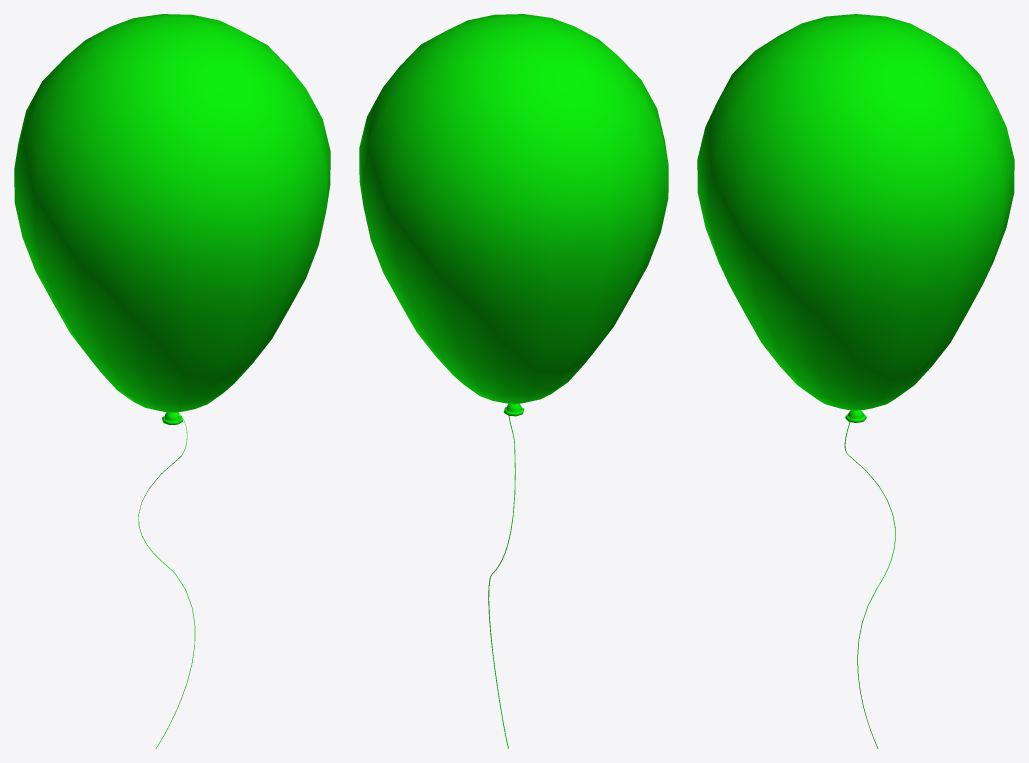
The model's file is ballon_green.glb.
The picture shows the model from 3 angles, left to right: view 1: azimuth 30°, elevation 25°; view 2: azimuth 150°, elevation 25°; view 3: azimuth 270°, elevation 25°; orthographic projection. The views are drawn at different scales.
Parts seen in each view (by area): view 1: Balloon_green.005; view 2: Balloon_green.005; view 3: Balloon_green.005.
Boxes of the visible parts, x1=… form: Balloon_green.005: x1=14, y1=14, x2=330, y2=748; Balloon_green.005: x1=359, y1=14, x2=668, y2=748; Balloon_green.005: x1=697, y1=14, x2=1014, y2=748.
Size of what is drawn, in the model's own units: 0.2648 by 0.664 by 0.2648.
